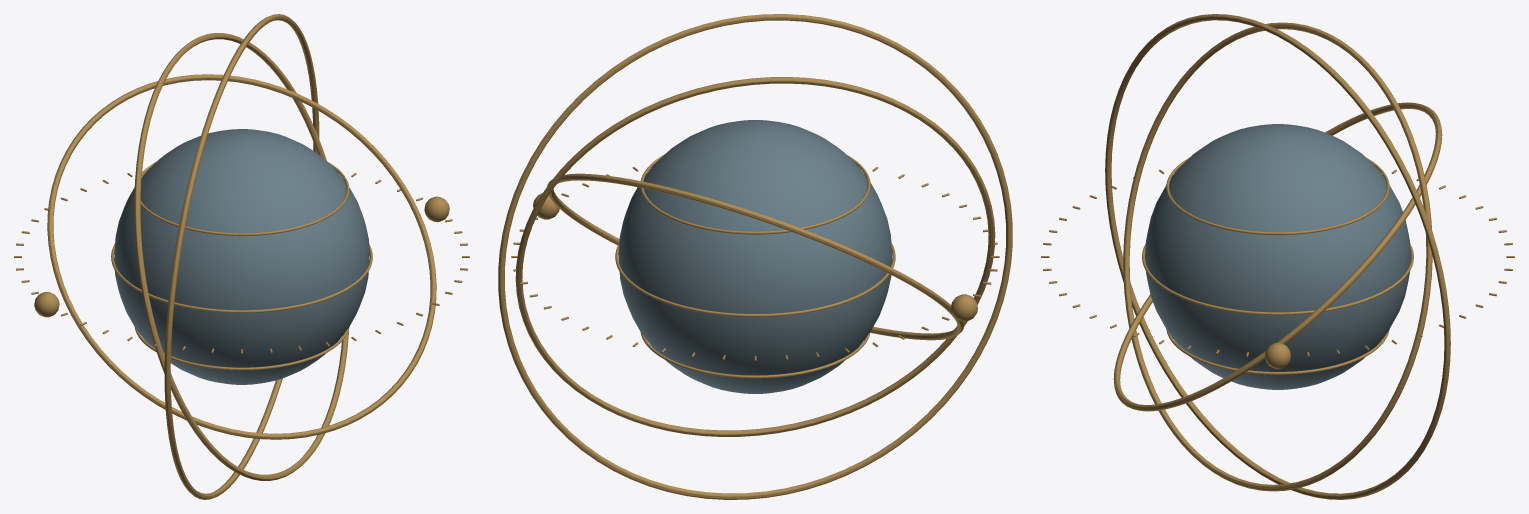
Rendered from orbit_sculpture.glb.
3 renders of one model, left to right at view 1: azimuth 30°, elevation 25°; view 2: azimuth 150°, elevation 25°; view 3: azimuth 270°, elevation 25°, orthographic. The views are drawn at different scales.
Visible parts, largest first — view 1: Detail.orbit_sculpture.Metal, Detail.orbit_sculpture.Brass; view 2: Detail.orbit_sculpture.Metal, Detail.orbit_sculpture.Brass; view 3: Detail.orbit_sculpture.Metal, Detail.orbit_sculpture.Brass.
Boxes of the visible parts, x1,y1,x2,y2 form: Detail.orbit_sculpture.Metal: (114, 129, 369, 384); Detail.orbit_sculpture.Brass: (14, 14, 469, 499); Detail.orbit_sculpture.Metal: (618, 120, 892, 393); Detail.orbit_sculpture.Brass: (498, 14, 1012, 499); Detail.orbit_sculpture.Metal: (1145, 124, 1410, 389); Detail.orbit_sculpture.Brass: (1041, 14, 1514, 499).
Size of the model in its own units: 3.53 by 3.64 by 3.38.
